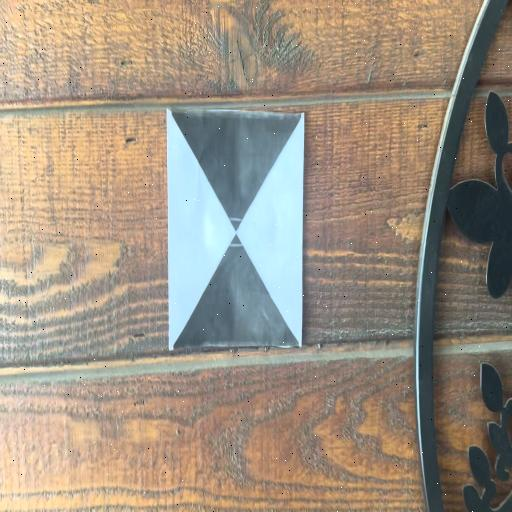target: (168, 109, 304, 349)
